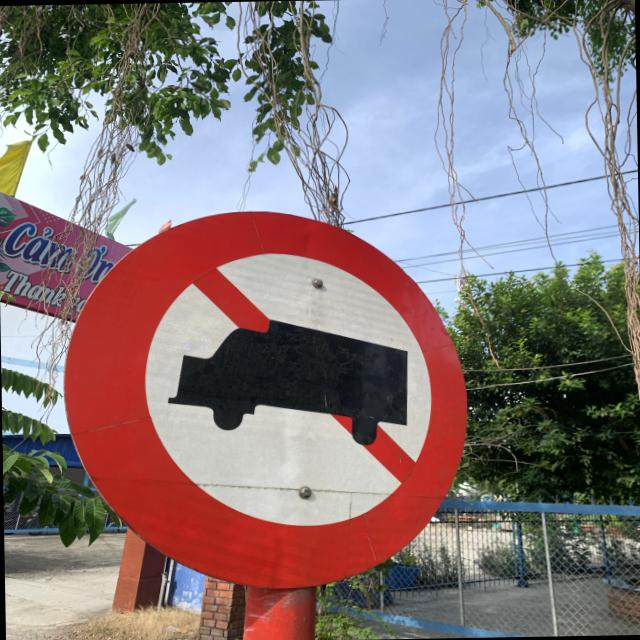Cam_Xe_Tai: (61, 206, 472, 594)
